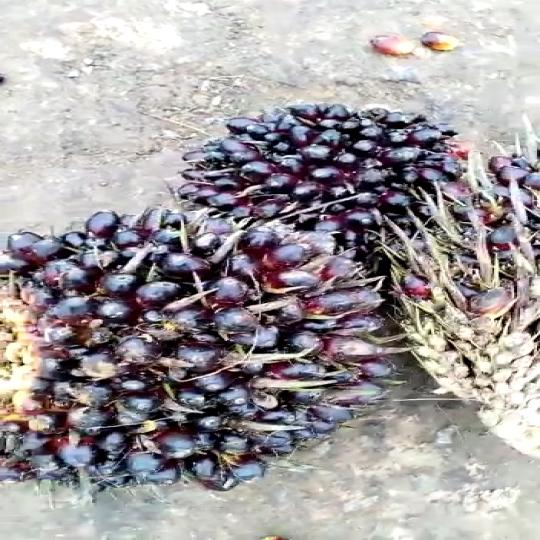kurang masak: (0, 218, 418, 481), (173, 98, 454, 226)
